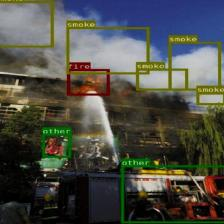fire: (66, 69, 108, 95)
smoke: (66, 27, 149, 74), (168, 42, 220, 90), (0, 0, 52, 46), (136, 68, 188, 90), (196, 92, 224, 104)
